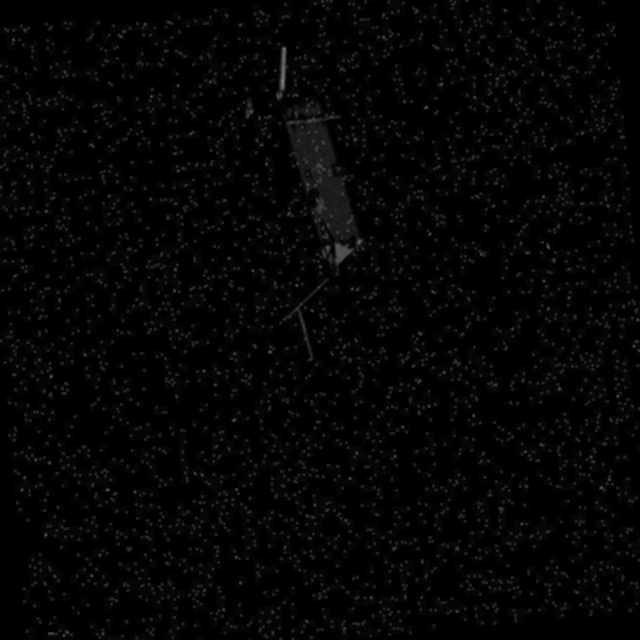medium_debris: (218, 44, 359, 359)
